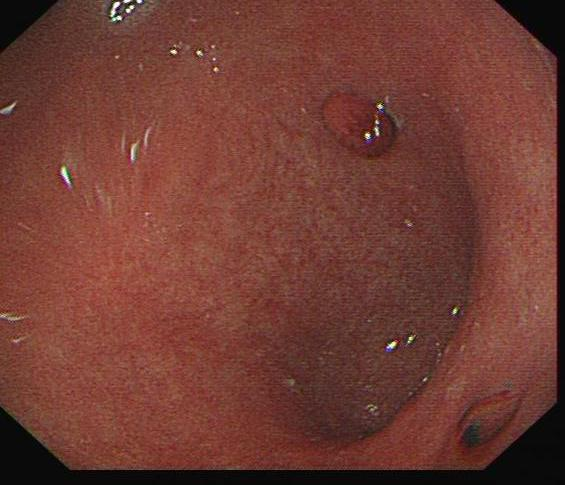Polyp: (316, 83, 403, 161)
